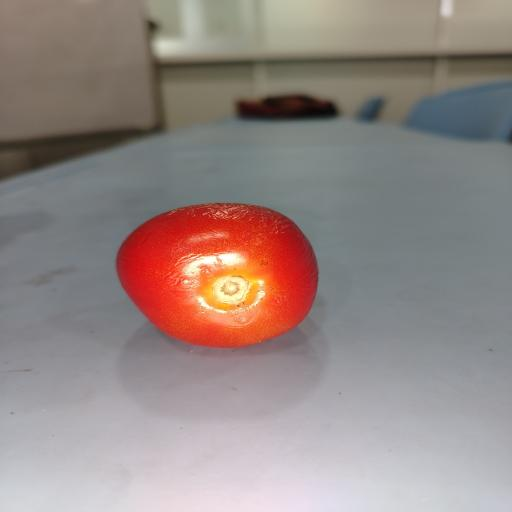ripe: (117, 203, 318, 348)
spoiled: (187, 232, 229, 243)
